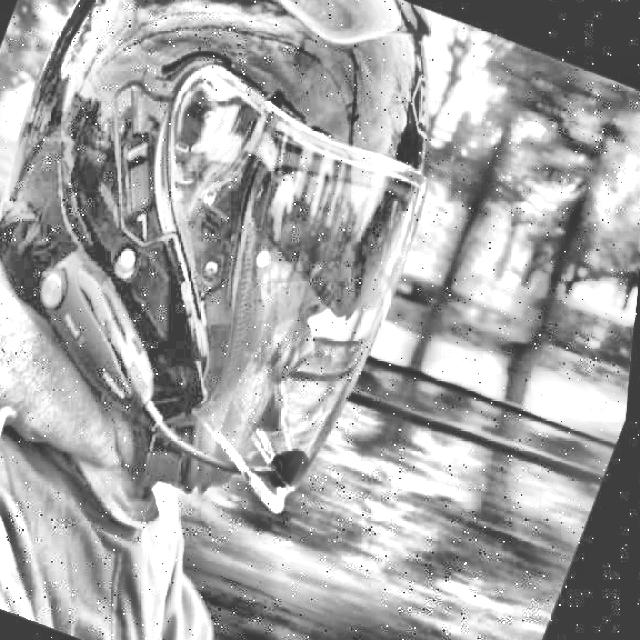Helmet: (0, 0, 503, 550)
